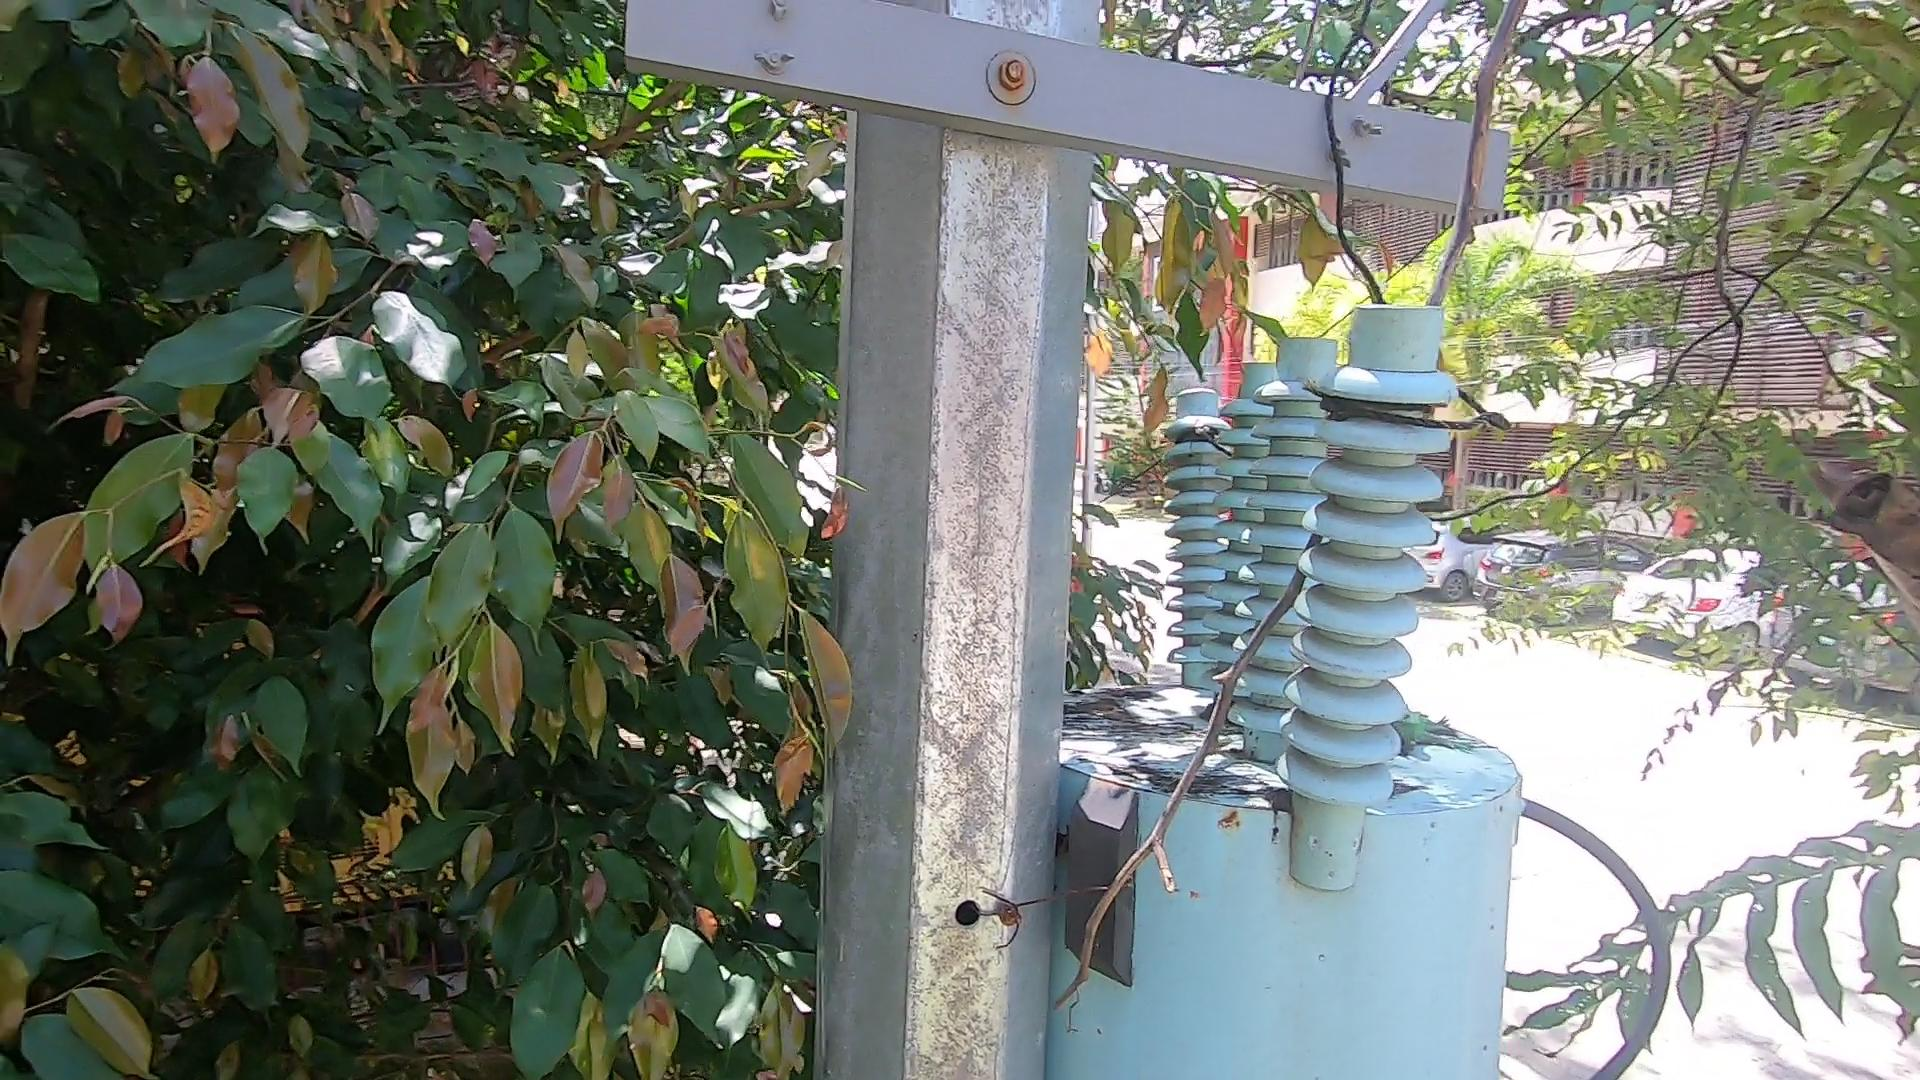branch with leaves: (1081, 211, 1360, 452)
leaf: (1242, 777, 1298, 837), (1079, 684, 1142, 735), (1406, 709, 1455, 771)
tree branch: (916, 3, 1538, 1004)
